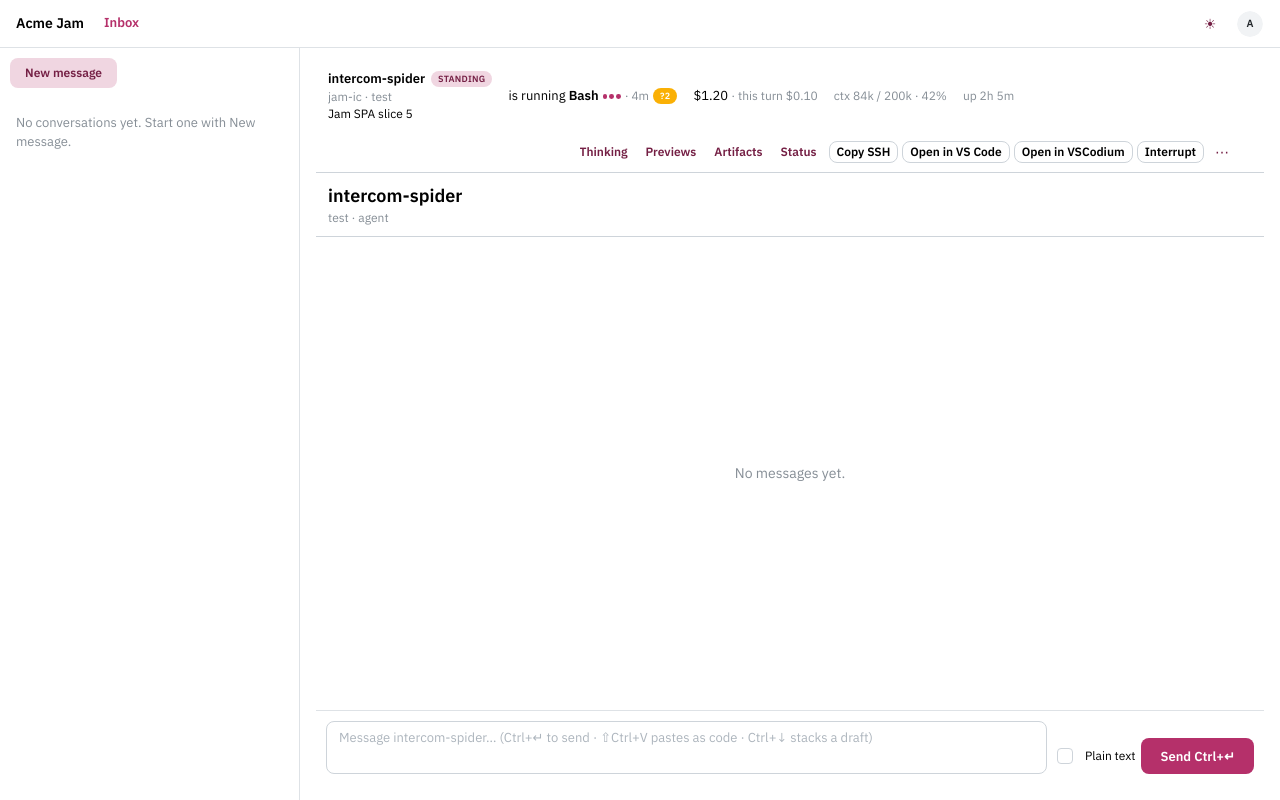
Test case: the session header › shows the server's refusal, and changes nothing
The width and height of the screenshot is (1280, 800).
Click the button "Interrupt" at (1170, 152), box [1137,141,1204,163]
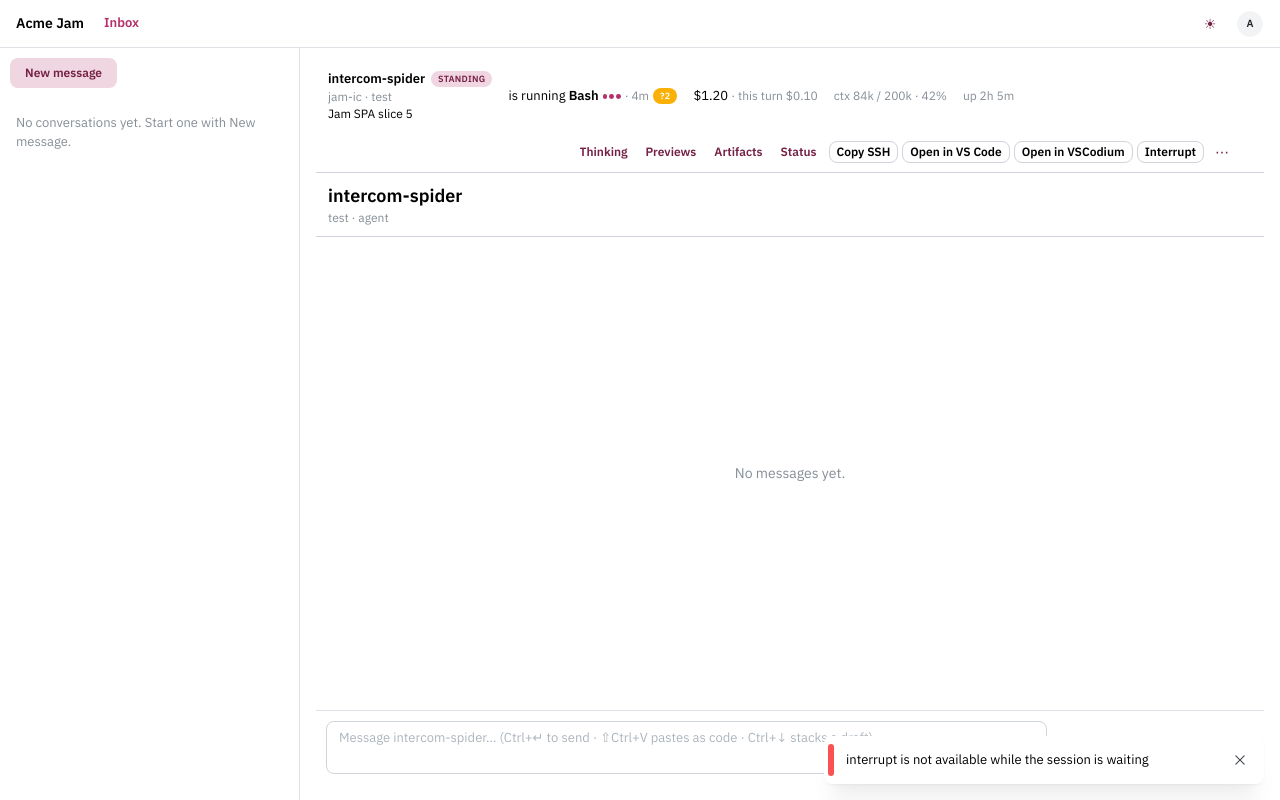
Check: the element named "Session" is shown, box [316,64,1264,173]
Check: the text "interrupt is not available while the session is waiting" is shown, box [846,751,1149,768]
